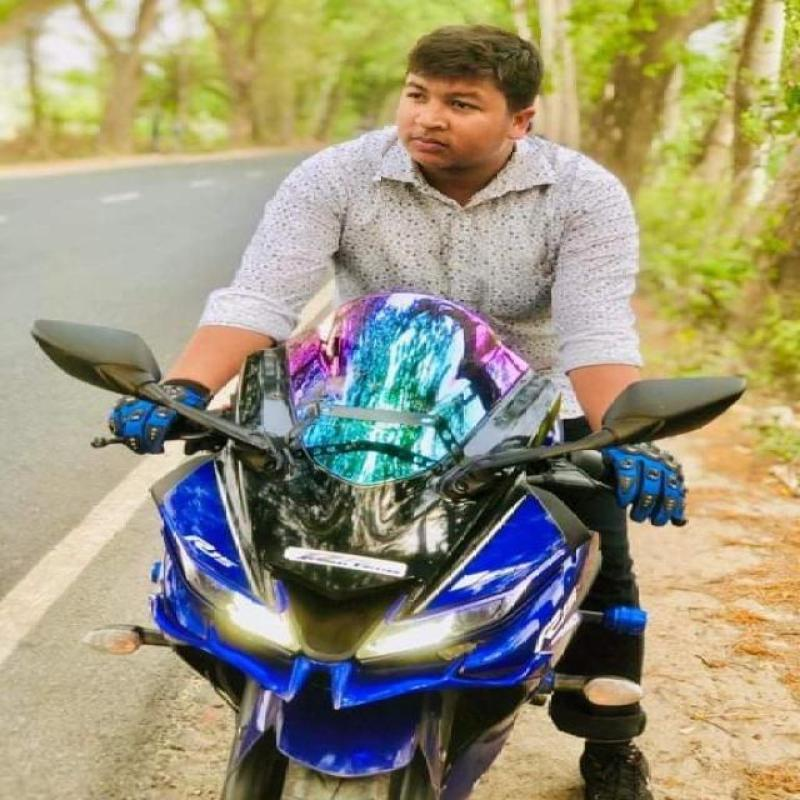nohelmet: (382, 22, 540, 202)
